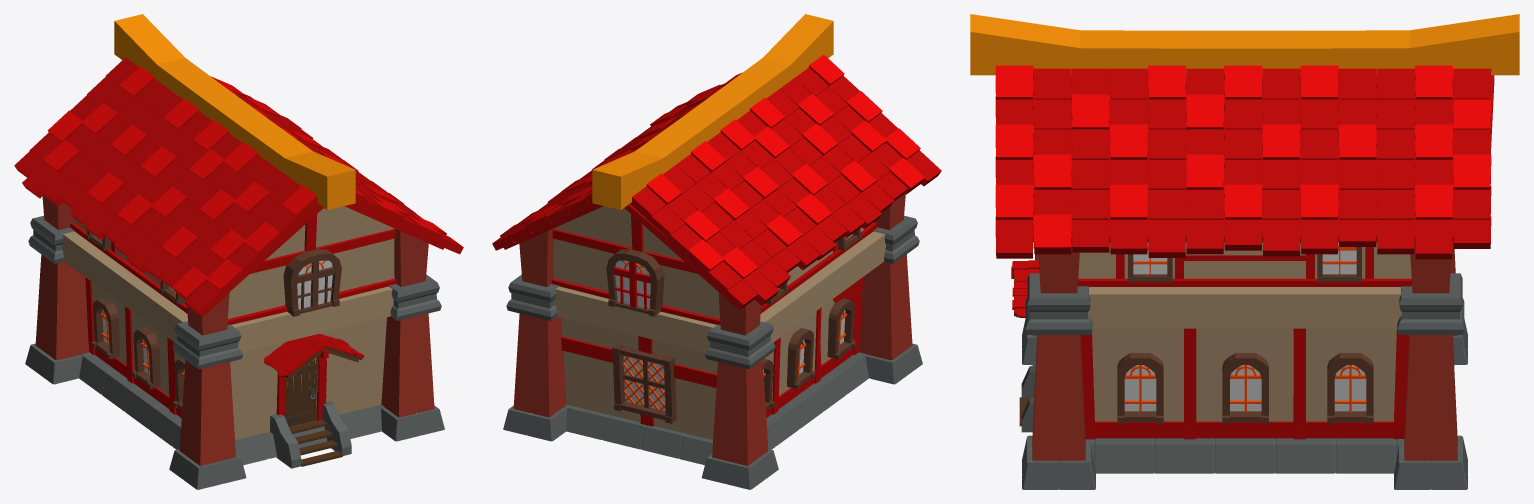
The model's file is SM_Hous_11_A.gltf.
3 views of the same model, side by side, from view 1: azimuth 30°, elevation 25°; view 2: azimuth 150°, elevation 25°; view 3: azimuth 270°, elevation 25° (orthographic). The views are drawn at different scales.
Parts seen in each view (by area): view 1: SM_Hous_11_A; view 2: SM_Hous_11_A; view 3: SM_Hous_11_A.
Boxes of the visible parts, x1,y1,x2,y2 form: SM_Hous_11_A: (14, 14, 463, 489); SM_Hous_11_A: (492, 14, 941, 489); SM_Hous_11_A: (970, 14, 1519, 489).
Bounding box in the file's own units: 8.43 × 9.17 × 11.69.
